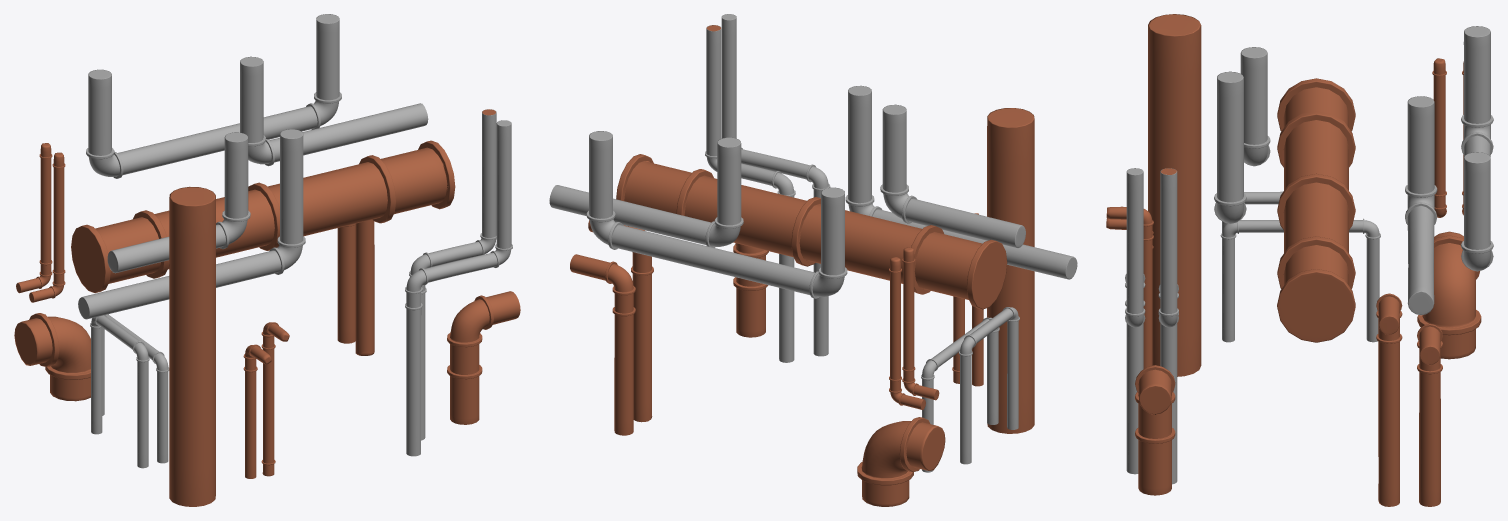
File: pipes.fbx
3 renders of one model, left to right at view 1: azimuth 30°, elevation 25°; view 2: azimuth 150°, elevation 25°; view 3: azimuth 270°, elevation 25°, orthographic. The views are drawn at different scales.
Parts seen in each view (by area): view 1: pCylinder4, pCylinder33, pCylinder28, pCylinder38, pCylinder22, pCylinder29, pCylinder36, pCylinder32, pCylinder37, pCylinder23, pCylinder34, pCylinder30 (+6 smaller); view 2: pCylinder4, pCylinder33, pCylinder28, pCylinder29, pCylinder37, pCylinder36, pCylinder38, pCylinder22, pCylinder23, pCylinder31, pCylinder34, pCylinder30 (+6 smaller); view 3: pCylinder4, pCylinder33, pCylinder28, pCylinder29, pCylinder22, pCylinder36, pCylinder30, pCylinder32, pCylinder23, pCylinder38, pCylinder31, pCylinder35 (+4 smaller).
Part boxes in pixels (bbox=[...]): pCylinder4: bbox=[71, 140, 455, 292]; pCylinder33: bbox=[169, 186, 215, 506]; pCylinder28: bbox=[86, 14, 341, 178]; pCylinder38: bbox=[78, 129, 305, 319]; pCylinder22: bbox=[405, 120, 512, 456]; pCylinder29: bbox=[240, 56, 428, 166]; pCylinder36: bbox=[14, 313, 90, 401]; pCylinder32: bbox=[447, 291, 520, 424]; pCylinder37: bbox=[107, 132, 250, 273]; pCylinder23: bbox=[409, 109, 496, 440]; pCylinder34: bbox=[90, 315, 149, 468]; pCylinder30: bbox=[355, 219, 374, 355]; pCylinder4: bbox=[616, 154, 1007, 309]; pCylinder33: bbox=[987, 108, 1034, 433]; pCylinder28: bbox=[586, 131, 847, 298]; pCylinder29: bbox=[549, 137, 743, 247]; pCylinder37: bbox=[880, 104, 1025, 248]; pCylinder36: bbox=[857, 417, 945, 506]; pCylinder38: bbox=[845, 85, 1077, 279]; pCylinder22: bbox=[721, 14, 830, 356]; pCylinder23: bbox=[705, 25, 795, 362]; pCylinder31: bbox=[570, 254, 635, 435]; pCylinder34: bbox=[959, 307, 1019, 464]; pCylinder30: bbox=[588, 220, 653, 422]; pCylinder4: bbox=[1277, 78, 1355, 342]; pCylinder33: bbox=[1148, 14, 1201, 376]; pCylinder28: bbox=[1461, 26, 1493, 271]; pCylinder29: bbox=[1405, 96, 1437, 315]; pCylinder22: bbox=[1125, 168, 1145, 474]; pCylinder36: bbox=[1417, 231, 1481, 359]; pCylinder30: bbox=[1376, 293, 1402, 506]; pCylinder32: bbox=[1135, 365, 1175, 495]; pCylinder23: bbox=[1158, 168, 1178, 484]; pCylinder38: bbox=[1214, 71, 1246, 223]; pCylinder31: bbox=[1417, 323, 1442, 506]; pCylinder35: bbox=[1220, 218, 1380, 342].
Size of the model in its own units: 13.66 by 9.73 by 9.56.
